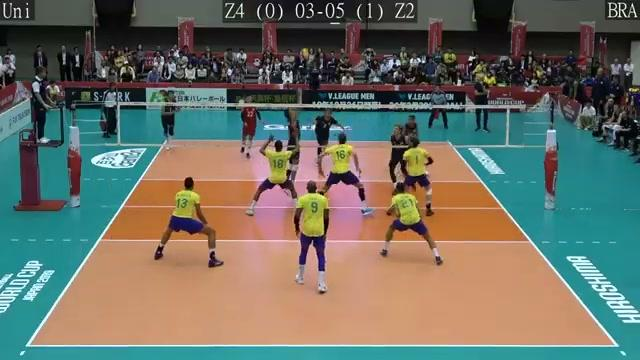ball: (297, 49, 312, 61)
